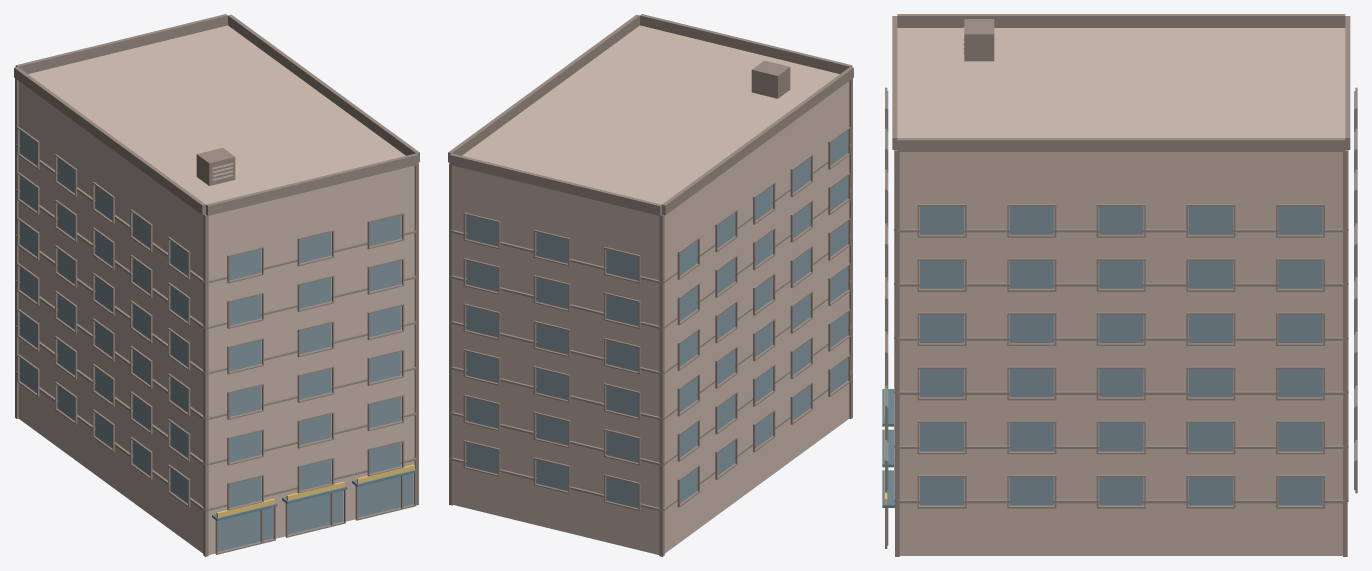
The model's file is lot_2x3.glb.
The picture shows the model from 3 angles, left to right: view 1: azimuth 30°, elevation 25°; view 2: azimuth 150°, elevation 25°; view 3: azimuth 270°, elevation 25°; orthographic projection. The views are drawn at different scales.
Parts seen in each view (by area): view 1: lot_2x3; view 2: lot_2x3; view 3: lot_2x3.
Part boxes in pixels (<box>): lot_2x3: <box>14,14,419,556</box>; lot_2x3: <box>448,14,853,556</box>; lot_2x3: <box>882,14,1357,556</box>.
Bounding box in the file's own units: 15.74 × 24 × 23.87.
